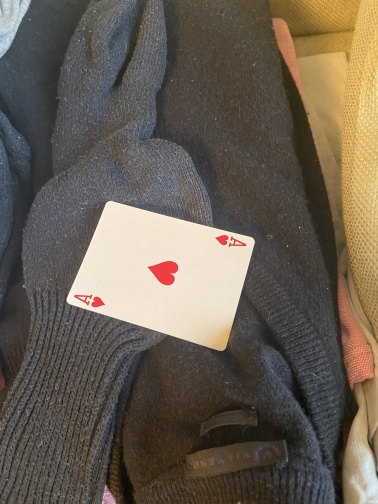ace: (64, 199, 256, 354)
